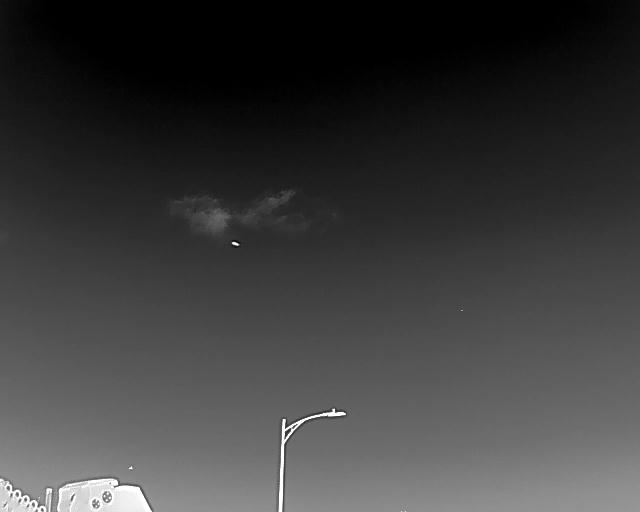fpv-drone: (230, 240, 240, 246)
